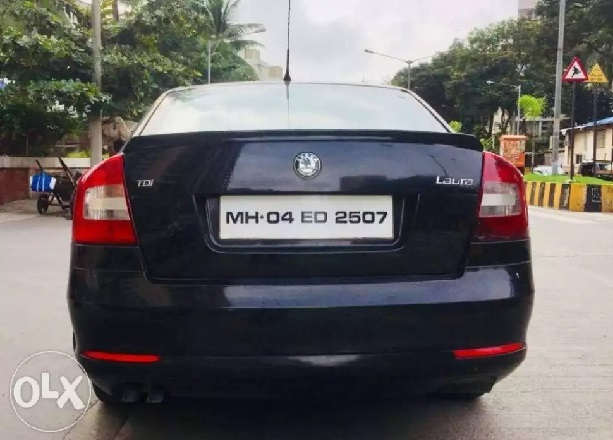licenseplate: (218, 192, 398, 244)
